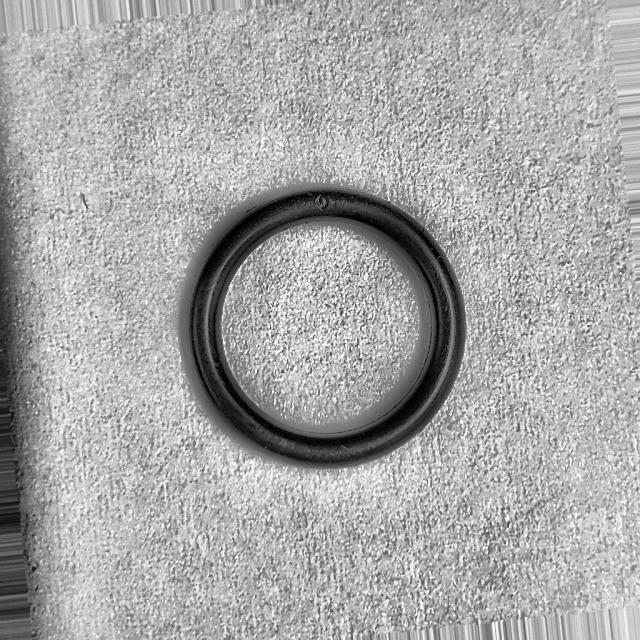切割缺陷: (309, 189, 331, 214)
